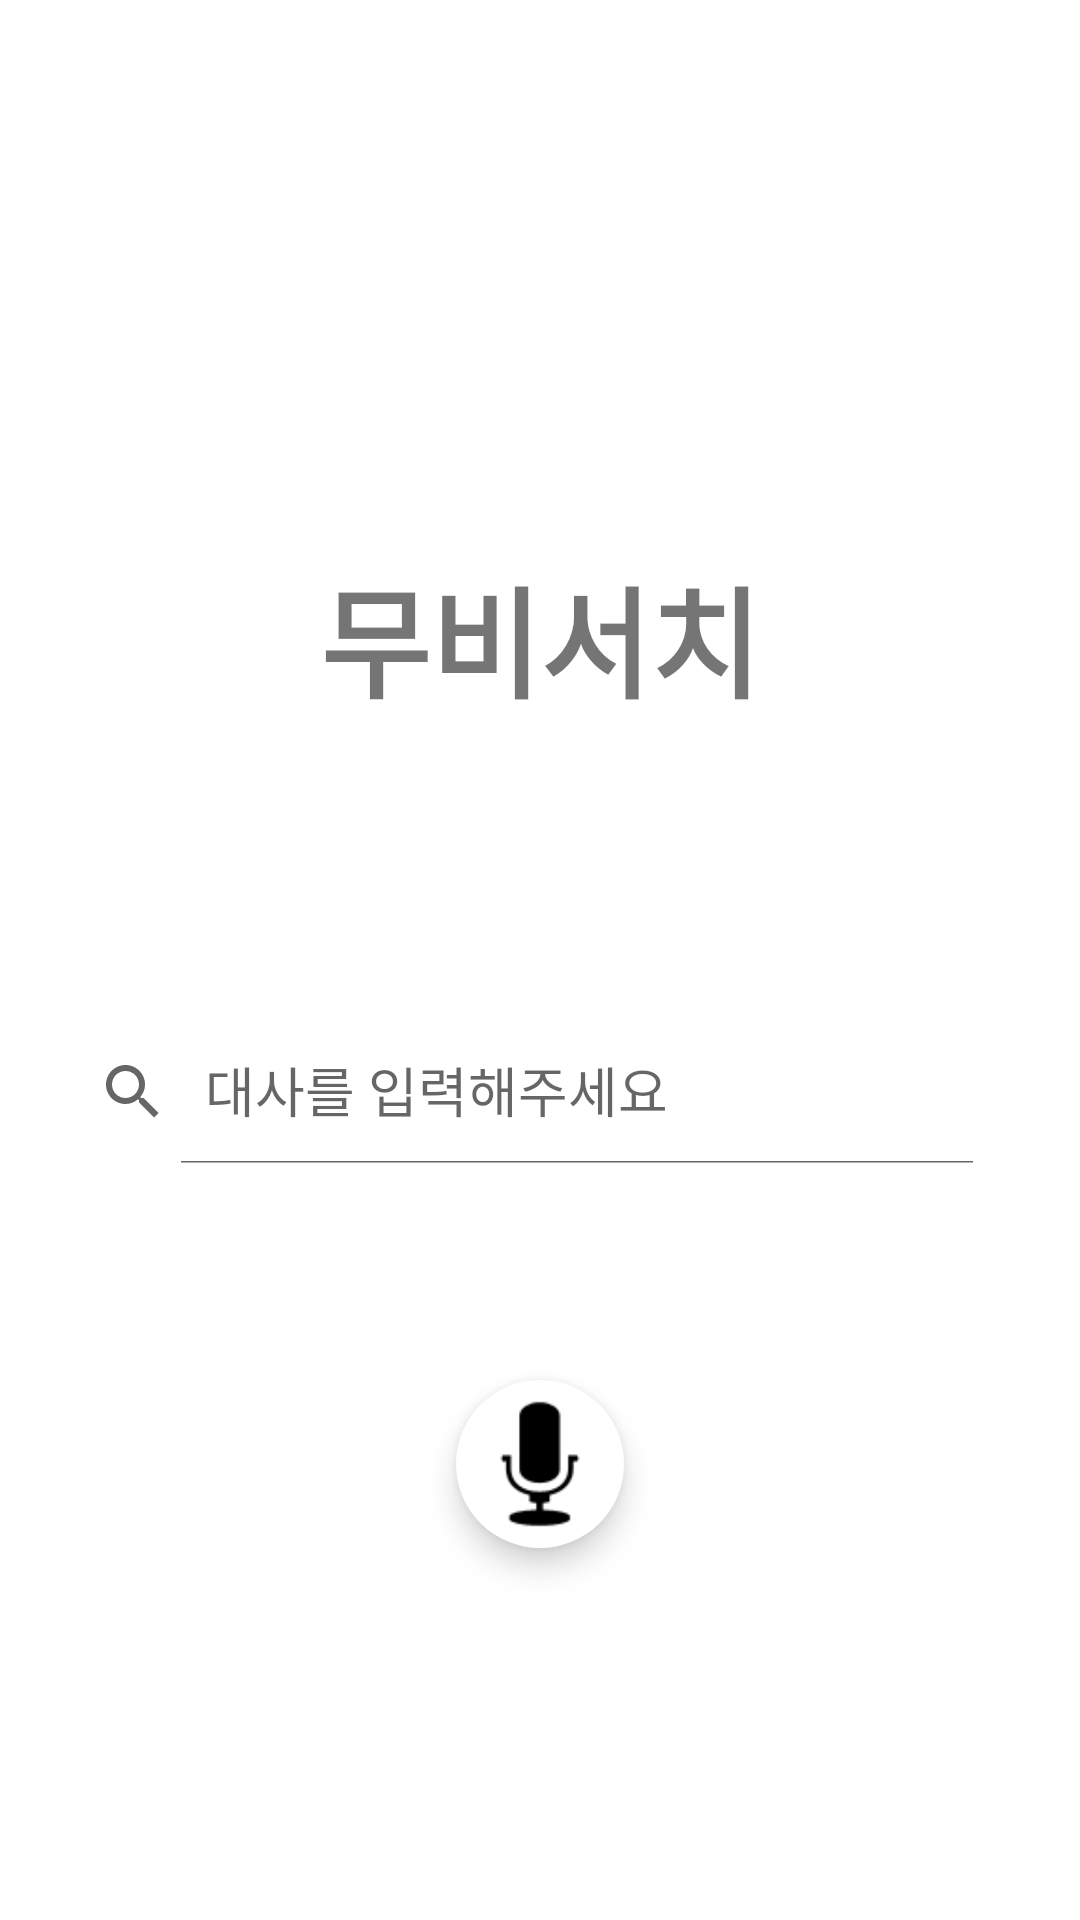

Icons on this 1080px×1920px Android screen, each with the point to tap as point (x, y):
speak now: point (540, 1464)
